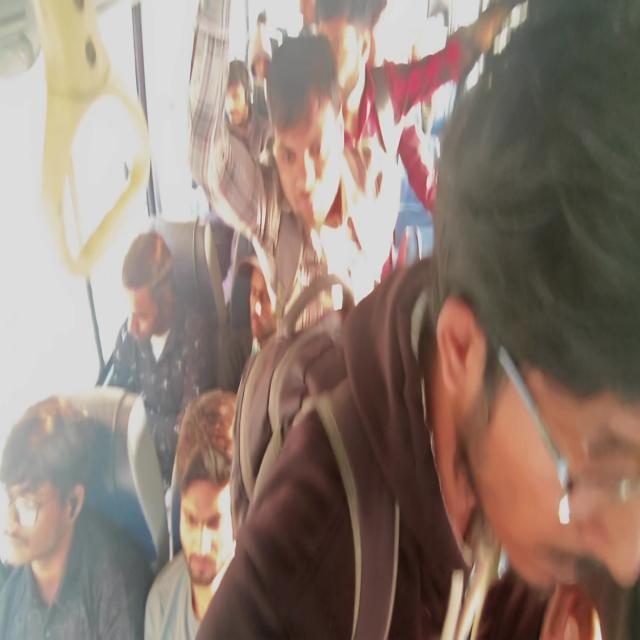person: (461, 63, 640, 561), (270, 67, 376, 213), (162, 401, 251, 566), (12, 428, 94, 574), (234, 237, 290, 355), (117, 224, 163, 341), (320, 0, 365, 64), (409, 34, 444, 101), (226, 60, 255, 132), (252, 6, 276, 68)
